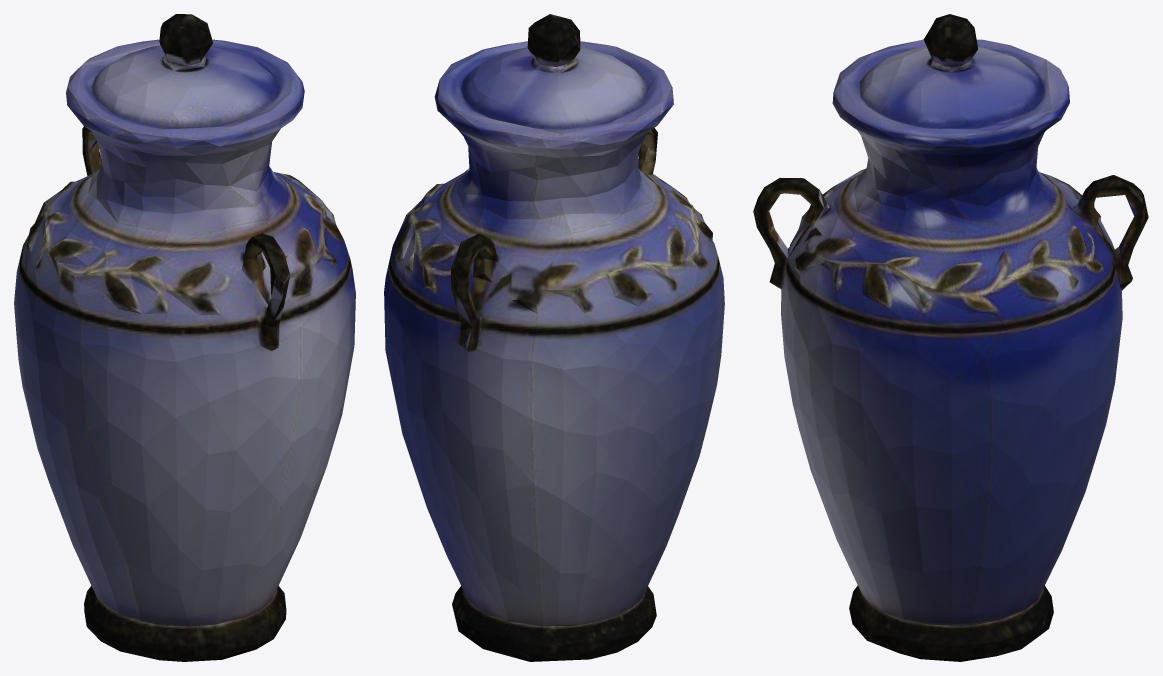
The model's file is urn_reliquary.glb.
3 renders of one model, left to right at view 1: azimuth 30°, elevation 25°; view 2: azimuth 150°, elevation 25°; view 3: azimuth 270°, elevation 25°, orthographic.
Parts seen in each view (by area): view 1: tripo_node_42a7d8aa-0d43-4fa6-95f2-50a63d5f6a65.001; view 2: tripo_node_42a7d8aa-0d43-4fa6-95f2-50a63d5f6a65.001; view 3: tripo_node_42a7d8aa-0d43-4fa6-95f2-50a63d5f6a65.001.
Part boxes in pixels (bbox=[...]): tripo_node_42a7d8aa-0d43-4fa6-95f2-50a63d5f6a65.001: bbox=[14, 14, 355, 661]; tripo_node_42a7d8aa-0d43-4fa6-95f2-50a63d5f6a65.001: bbox=[384, 14, 724, 661]; tripo_node_42a7d8aa-0d43-4fa6-95f2-50a63d5f6a65.001: bbox=[753, 14, 1148, 661].
Bounding box in the file's own units: 0.5099 × 1 × 0.5903.
1 material, 1 textured.
